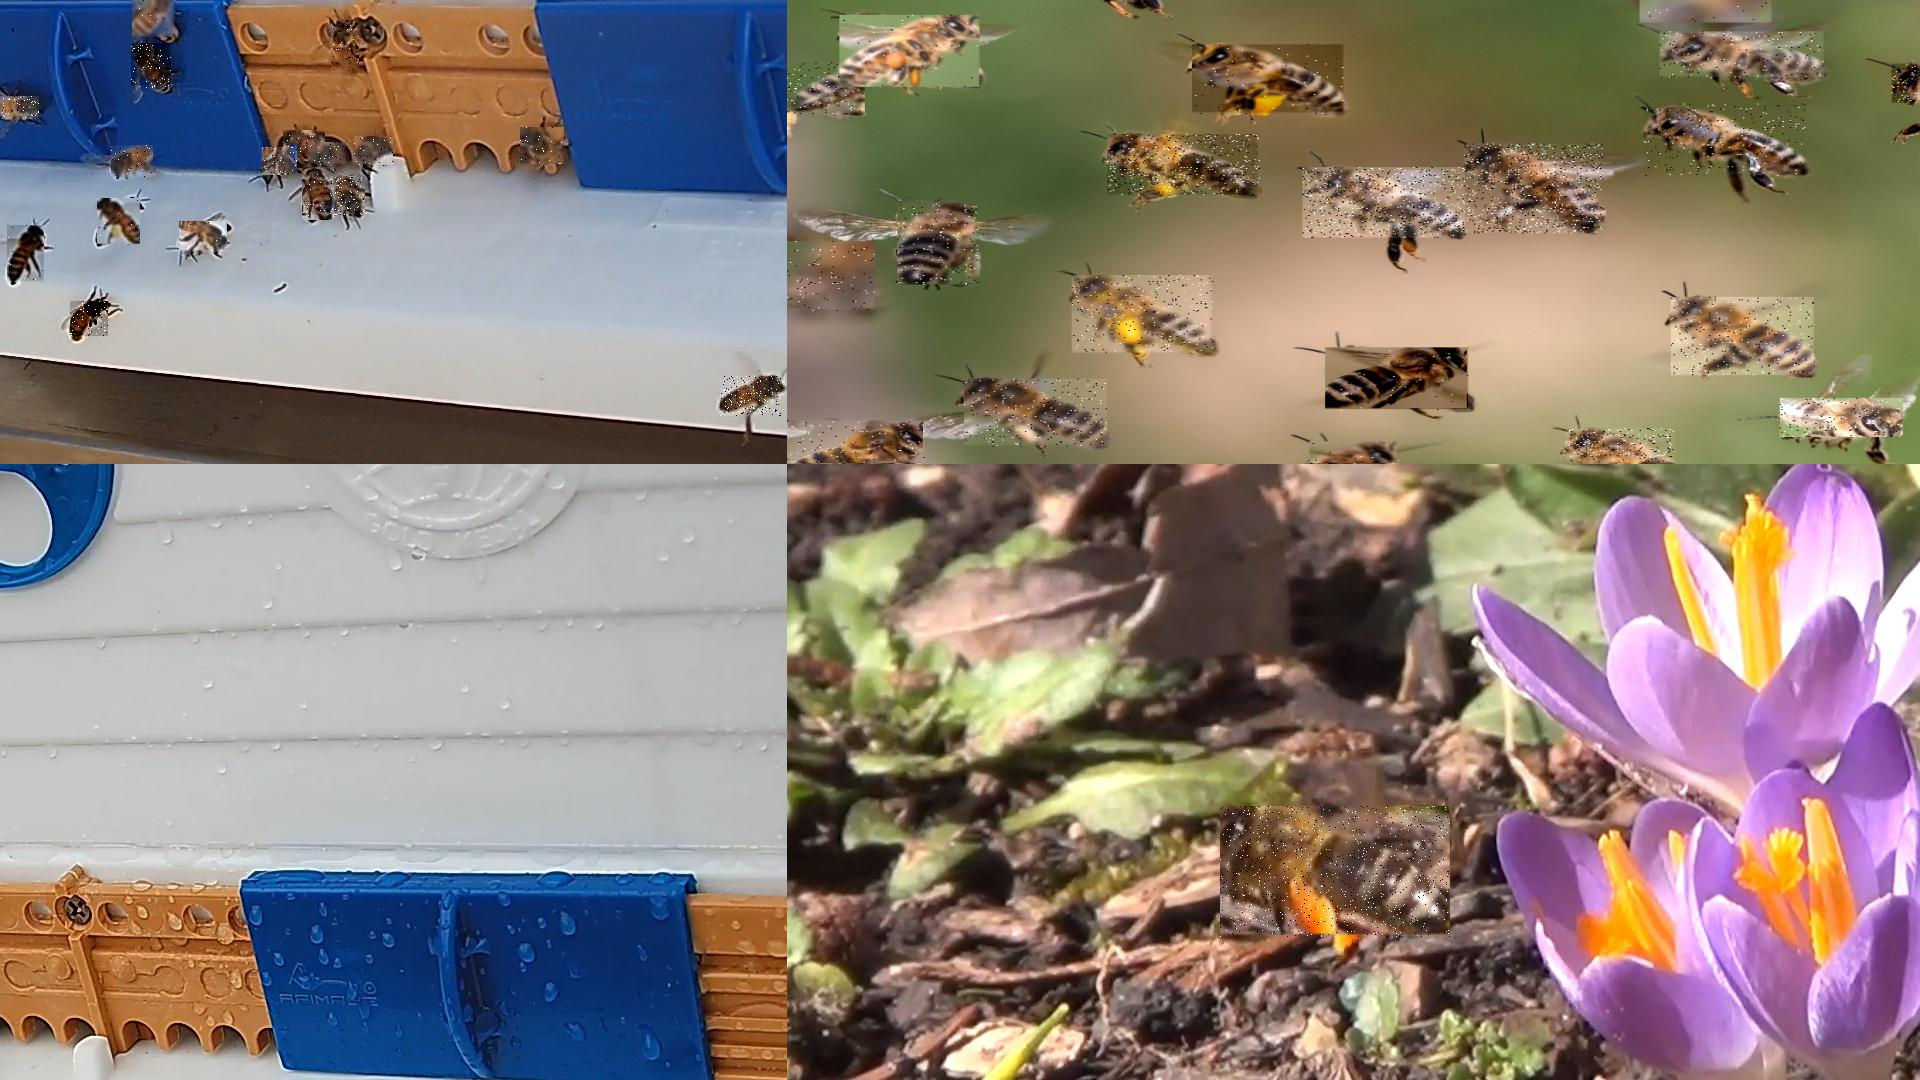bee: (1220, 807, 1451, 939), (1465, 144, 1606, 235), (1644, 103, 1809, 177), (1303, 167, 1468, 239), (1671, 297, 1816, 376), (1327, 348, 1473, 413), (1660, 32, 1825, 80), (898, 203, 981, 286), (787, 241, 876, 313), (787, 421, 926, 463), (1780, 398, 1904, 438), (787, 63, 866, 116), (1565, 429, 1676, 463), (1639, 0, 1772, 24), (720, 376, 782, 417), (7, 225, 45, 285), (1309, 440, 1399, 463), (132, 44, 173, 90), (302, 167, 335, 222), (133, 0, 178, 40), (520, 127, 564, 165), (179, 222, 228, 255), (331, 21, 360, 74), (70, 302, 109, 340), (330, 177, 367, 216), (111, 145, 154, 178), (353, 137, 394, 167), (1891, 63, 1919, 103), (262, 148, 298, 177), (309, 142, 349, 167), (0, 96, 41, 120)
pollenbee: (1073, 276, 1216, 353), (1192, 45, 1345, 116), (840, 15, 981, 88), (964, 378, 1109, 448), (1108, 135, 1262, 196), (98, 198, 141, 245), (284, 131, 326, 156)
